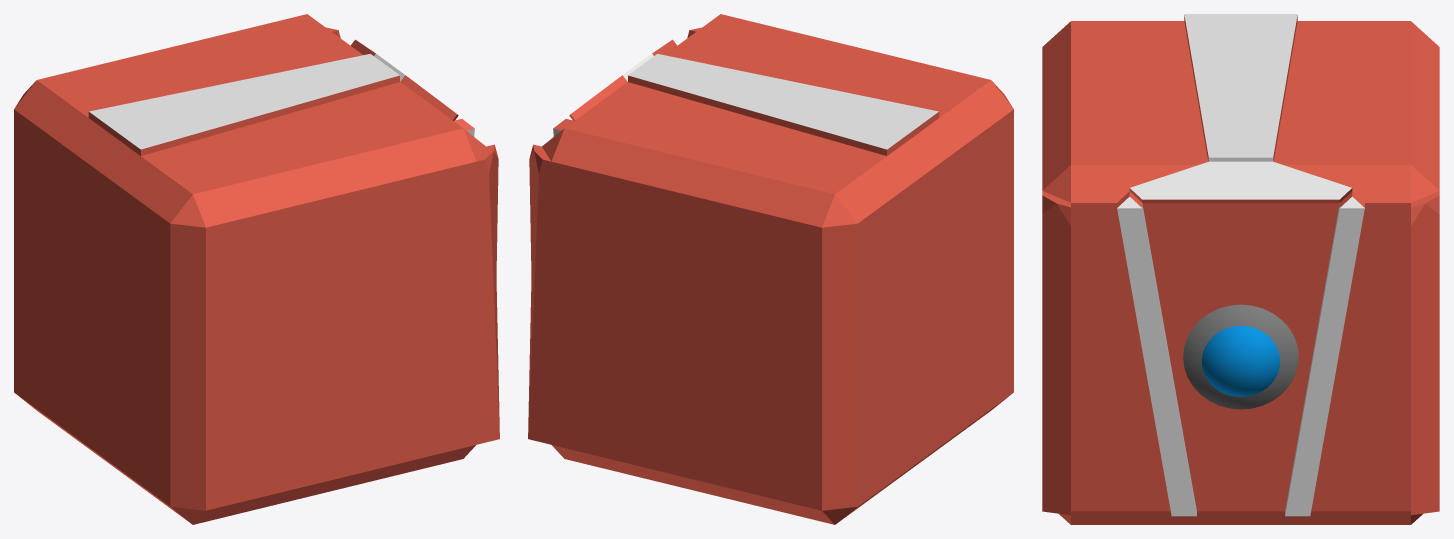
Rendered from ChestRender.fbx.
3 views of the same model, side by side, from view 1: azimuth 30°, elevation 25°; view 2: azimuth 150°, elevation 25°; view 3: azimuth 270°, elevation 25° (orthographic). The views are drawn at different scales.
Parts seen in each view (by area): view 1: Cube; view 2: Cube; view 3: Cube, Sphere, Sphere.001.
Part boxes in pixels (left/top/right/bottom): Cube: left=14, top=14, right=499, bottom=524; Cube: left=528, top=14, right=1013, bottom=524; Cube: left=1042, top=14, right=1439, bottom=524; Sphere: left=1183, top=304, right=1298, bottom=409; Sphere.001: left=1201, top=326, right=1280, bottom=396.
Size of the model in its own units: 215 by 204 by 200.
